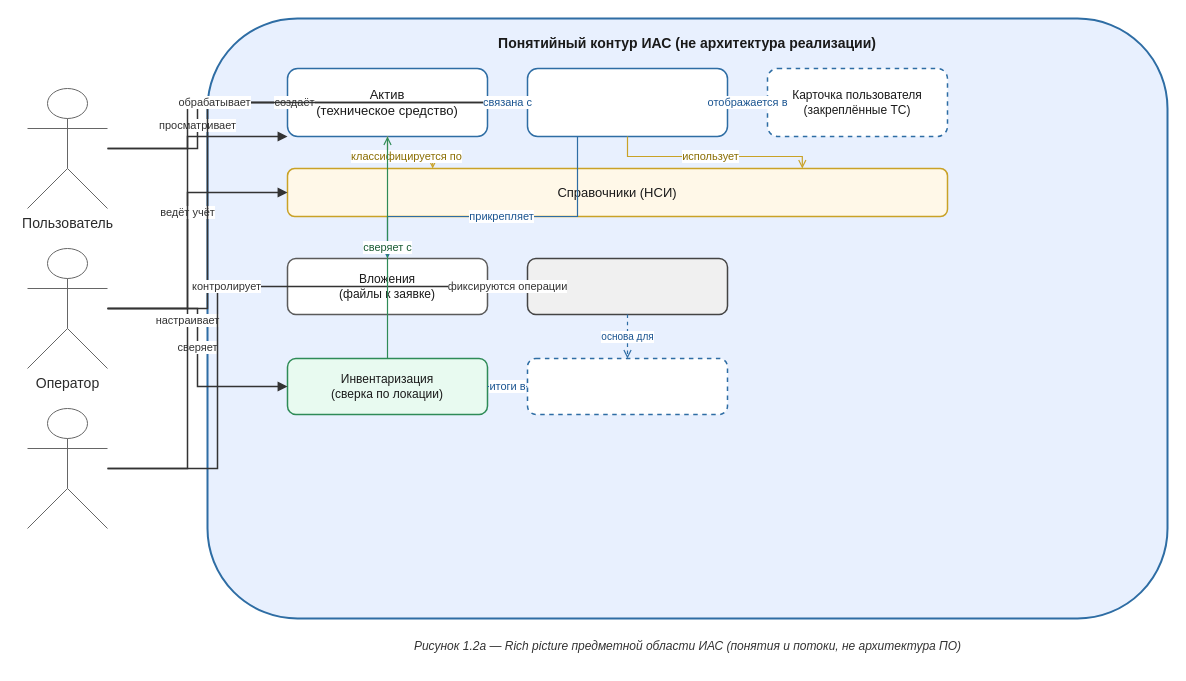
This 1186x681 diagram has some shape labels left out. The centre of each missing label's shape, as x and y in pixels:
Администратор: point 67,468
Журнал аудита (прослеживаемость): point 627,286
Заявка (Help Desk): point 627,102
Отчёты и выборки: point 627,386
